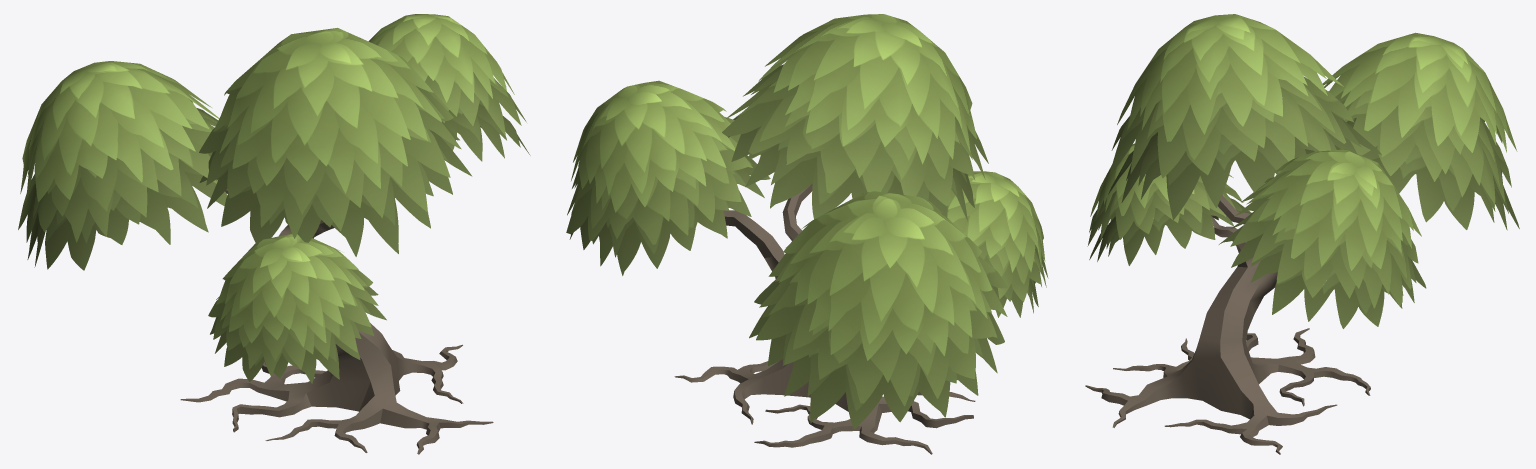
Rendered from EnvFlora101_Tree.fbx.
3 renders of one model, left to right at view 1: azimuth 30°, elevation 25°; view 2: azimuth 150°, elevation 25°; view 3: azimuth 270°, elevation 25°, orthographic. The views are drawn at different scales.
Parts seen in each view (by area): view 1: EnvFlora102_TreeCrown, EnvFlora102_TreeTrunk; view 2: EnvFlora102_TreeCrown, EnvFlora102_TreeTrunk; view 3: EnvFlora102_TreeCrown, EnvFlora102_TreeTrunk.
Part boxes in pixels (left/top/right/bottom): EnvFlora102_TreeCrown: left=18, top=14, right=530, bottom=383; EnvFlora102_TreeTrunk: left=180, top=188, right=493, bottom=454; EnvFlora102_TreeCrown: left=566, top=14, right=1048, bottom=429; EnvFlora102_TreeTrunk: left=674, top=183, right=975, bottom=454; EnvFlora102_TreeCrown: left=1087, top=14, right=1519, bottom=328; EnvFlora102_TreeTrunk: left=1085, top=194, right=1370, bottom=454.
Size of the model in its own units: 11.03 by 8.48 by 9.56.
